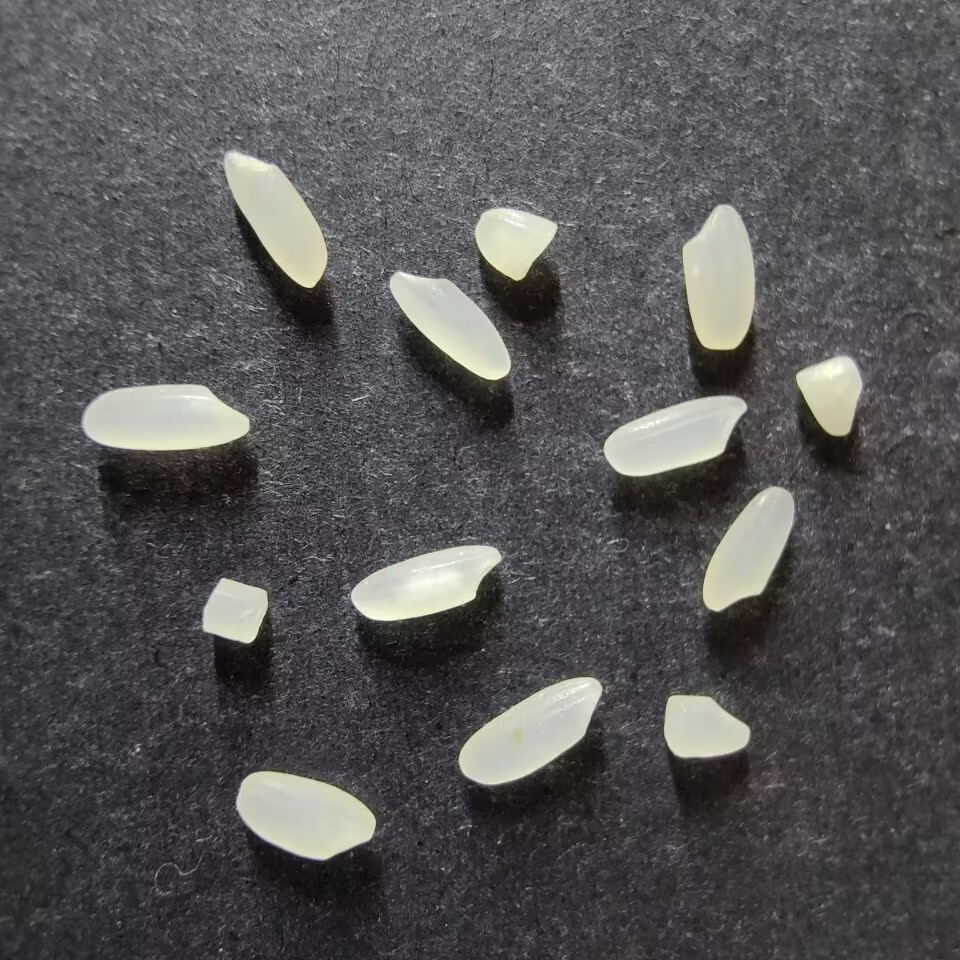broken: (474, 207, 557, 281), (663, 694, 750, 758), (795, 356, 862, 436), (201, 577, 269, 644)
rice: (457, 676, 602, 784), (222, 150, 328, 288), (388, 270, 511, 381), (235, 770, 376, 861), (701, 486, 795, 612), (350, 544, 501, 622), (603, 395, 747, 476), (81, 383, 250, 450), (682, 204, 755, 350)
